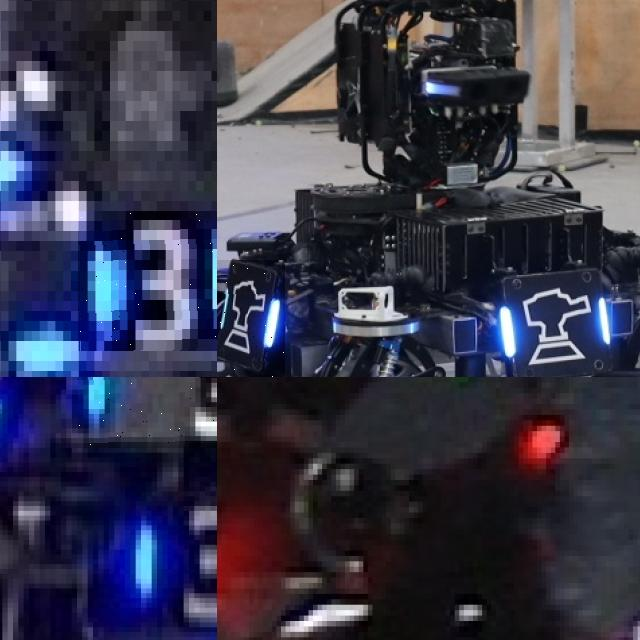B3: (78, 211, 217, 351), (130, 496, 217, 627), (71, 377, 217, 448)
Bs: (497, 264, 614, 377), (217, 260, 284, 377)
